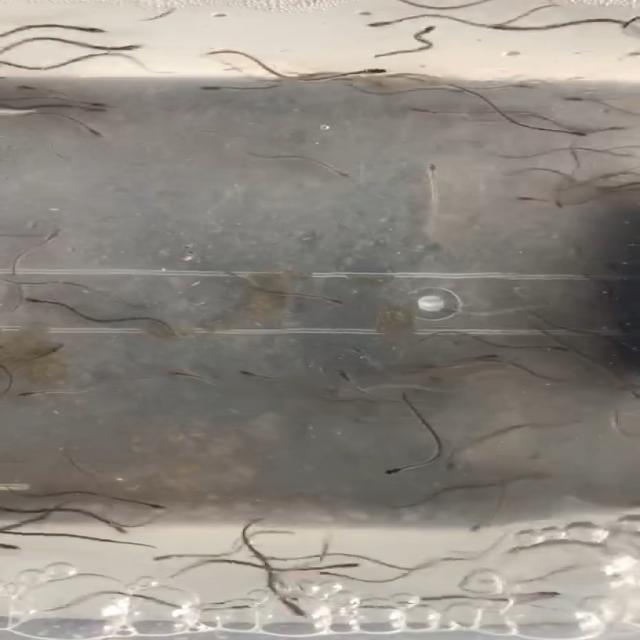active_glass_eel: (498, 186, 562, 223), (212, 358, 283, 386), (9, 384, 78, 411), (119, 487, 172, 516), (476, 528, 528, 557), (24, 218, 74, 248), (87, 97, 131, 129), (5, 80, 60, 104), (476, 342, 520, 372), (102, 521, 162, 543), (319, 162, 368, 188), (516, 588, 556, 618), (488, 78, 543, 98), (154, 362, 199, 386), (350, 56, 391, 82), (404, 156, 454, 177), (74, 126, 125, 146), (114, 39, 161, 60), (329, 365, 368, 390), (149, 545, 190, 568), (438, 455, 474, 479), (419, 19, 460, 39), (406, 104, 448, 123), (313, 292, 352, 312), (237, 514, 284, 530), (375, 459, 405, 484), (5, 539, 45, 557), (200, 80, 235, 100), (369, 16, 398, 40), (525, 338, 567, 354), (567, 86, 593, 109), (22, 295, 61, 310), (560, 124, 586, 140), (329, 561, 356, 575), (83, 23, 105, 37), (290, 612, 328, 620)
